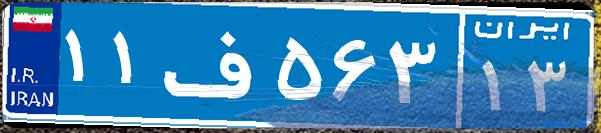1: (57, 26, 110, 107), (475, 38, 525, 113), (110, 28, 158, 105)
3: (385, 28, 445, 110), (525, 38, 570, 115)
5: (273, 28, 330, 110)
6: (330, 28, 385, 110)
ف: (158, 15, 273, 115)
